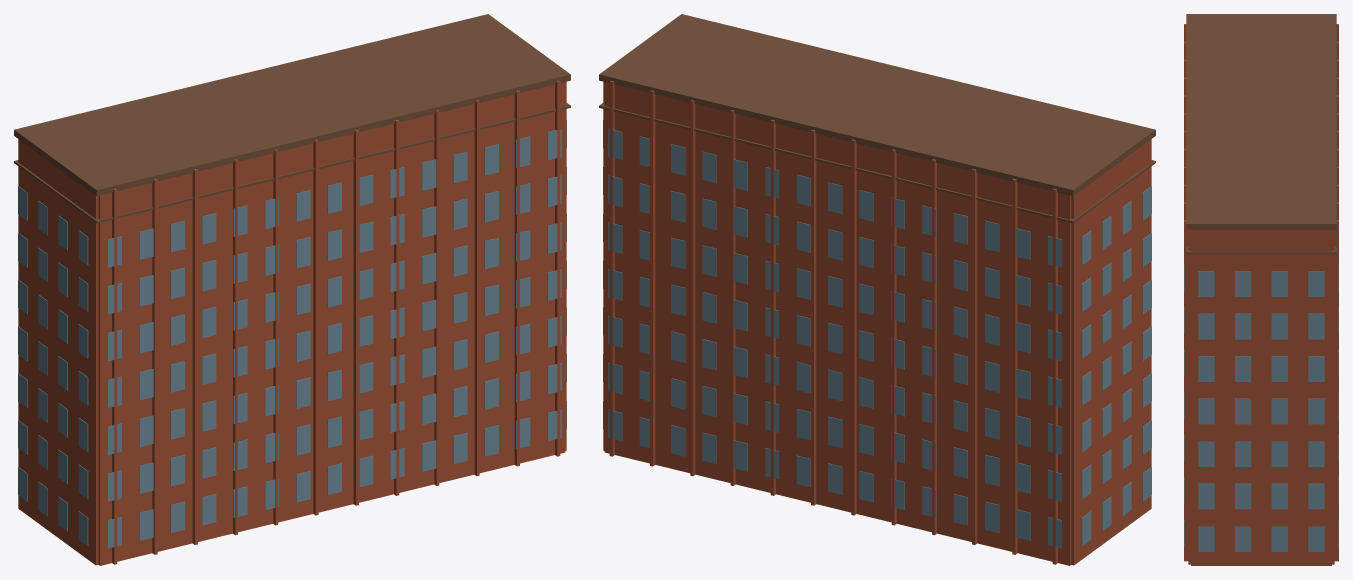
File: KOL_T1_SONAR__Guest_Wing_1.fbx
The picture shows the model from 3 angles, left to right: view 1: azimuth 30°, elevation 25°; view 2: azimuth 150°, elevation 25°; view 3: azimuth 270°, elevation 25°; orthographic projection. The views are drawn at different scales.
Visible parts, largest first — view 1: KOL_T1_SONAR__Guest_Wing_1__KOL_T1_Terra, KOL_T1_SONAR__Guest_Wing_1__KOL_T1_GlassBlue, KOL_T1_SONAR__Guest_Wing_1__KOL_T1_Louvre, KOL_T1_SONAR__Guest_Wing_1__KOL_T1_WarmWindow; view 2: KOL_T1_SONAR__Guest_Wing_1__KOL_T1_Terra, KOL_T1_SONAR__Guest_Wing_1__KOL_T1_GlassBlue, KOL_T1_SONAR__Guest_Wing_1__KOL_T1_Louvre, KOL_T1_SONAR__Guest_Wing_1__KOL_T1_WarmWindow; view 3: KOL_T1_SONAR__Guest_Wing_1__KOL_T1_Terra, KOL_T1_SONAR__Guest_Wing_1__KOL_T1_Louvre, KOL_T1_SONAR__Guest_Wing_1__KOL_T1_GlassBlue.
Part boxes in pixels (x1,y1,x2,y2): KOL_T1_SONAR__Guest_Wing_1__KOL_T1_Terra: [18, 80, 566, 565]; KOL_T1_SONAR__Guest_Wing_1__KOL_T1_GlassBlue: [18, 120, 566, 545]; KOL_T1_SONAR__Guest_Wing_1__KOL_T1_Louvre: [14, 14, 570, 223]; KOL_T1_SONAR__Guest_Wing_1__KOL_T1_WarmWindow: [108, 136, 530, 548]; KOL_T1_SONAR__Guest_Wing_1__KOL_T1_Terra: [603, 80, 1151, 565]; KOL_T1_SONAR__Guest_Wing_1__KOL_T1_GlassBlue: [603, 120, 1151, 545]; KOL_T1_SONAR__Guest_Wing_1__KOL_T1_Louvre: [599, 14, 1155, 223]; KOL_T1_SONAR__Guest_Wing_1__KOL_T1_WarmWindow: [639, 136, 1061, 548]; KOL_T1_SONAR__Guest_Wing_1__KOL_T1_Terra: [1184, 24, 1338, 565]; KOL_T1_SONAR__Guest_Wing_1__KOL_T1_Louvre: [1186, 14, 1336, 254]; KOL_T1_SONAR__Guest_Wing_1__KOL_T1_GlassBlue: [1184, 265, 1338, 551].
Size of the model in its own units: 107 by 80.65 by 33.
